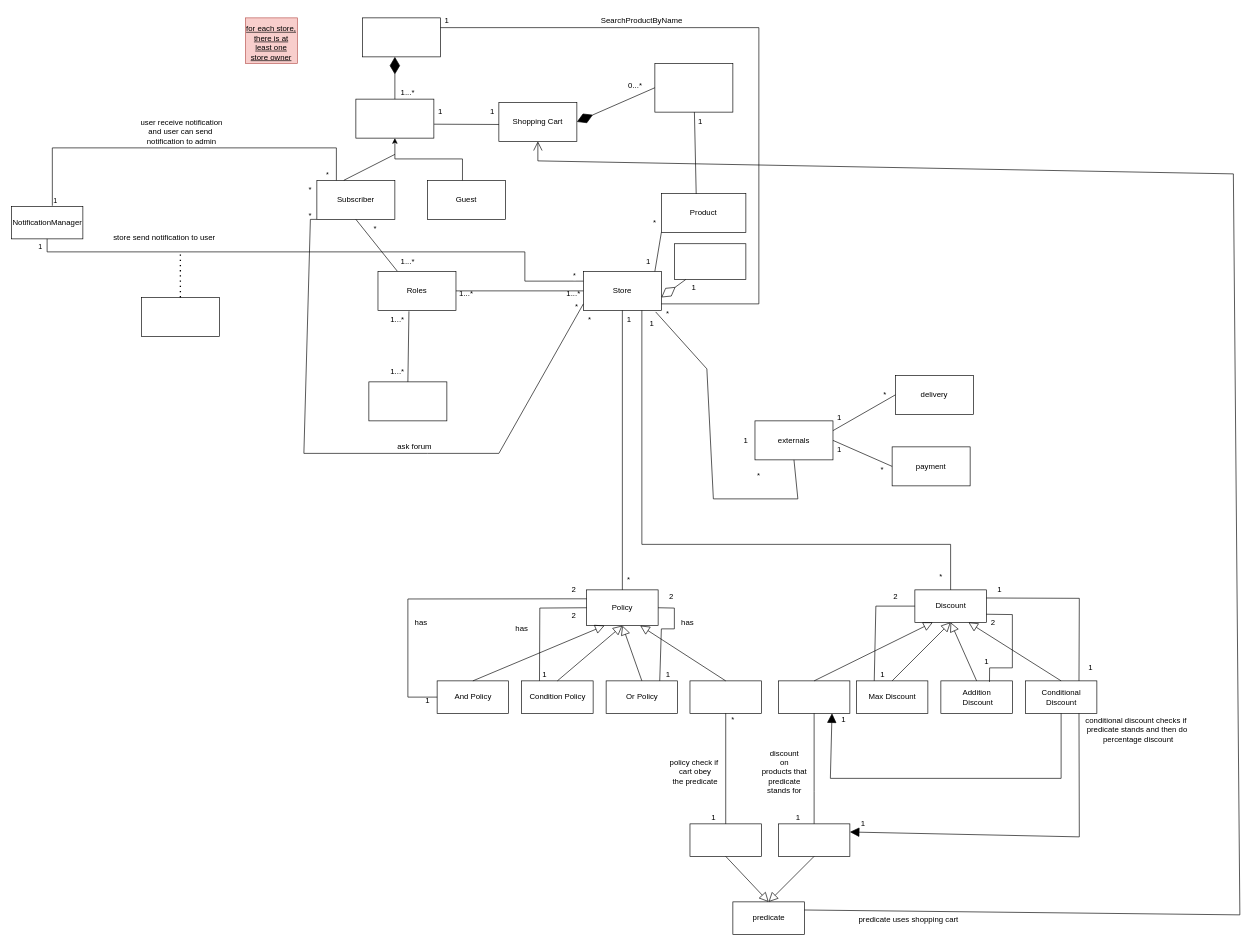
This 1260x946 diagram has some shape labels left out. Here are the shapes that lost their labels. From the top down, the centre of each, then its label:
At pixel 401 37: "market".
At pixel 693 87: "Shopping Bag".
At pixel 394 118: "user".
At pixel 710 261: "StoreForum".
At pixel 180 316: "notification".
At pixel 407 401: "<Enum> Permission".
At pixel 725 696: "Predicate Policy".
At pixel 814 696: "Percentage Discount".
At pixel 725 839: "Policy predicate".
At pixel 814 839: "Discount predicate".
